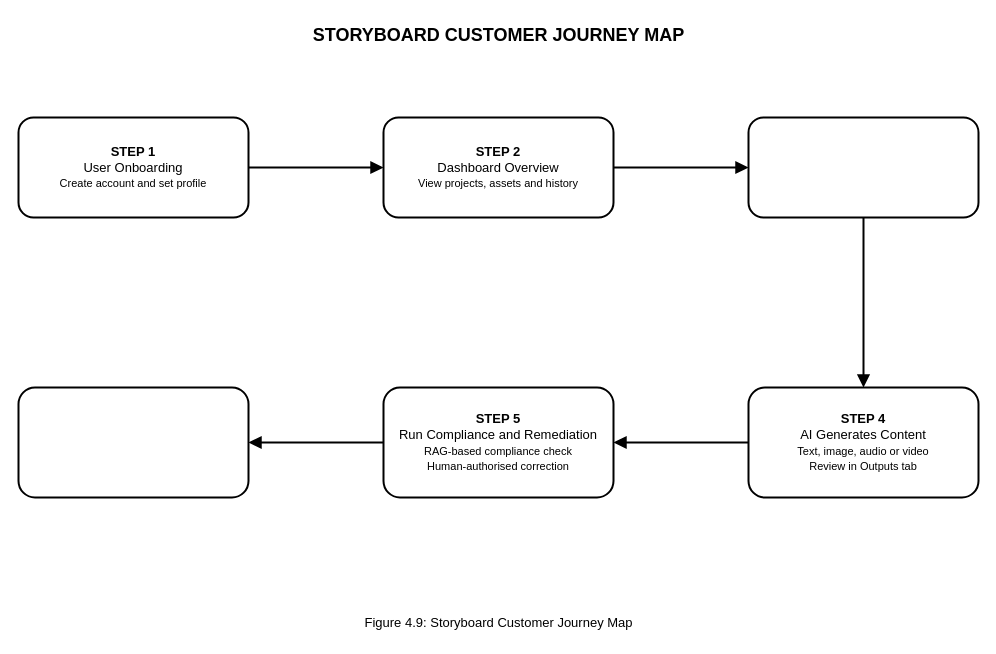
Image size: 996x654. Some labels were removed from this diagram. The shapes that lost their labels are listed below. From the top down, each one's centre as x and y in pixels, then its label:
At [863,167]: "STEP 3 Enter Generation Canvas Submit brief, platform and references".
At [133,442]: "STEP 6 Distribute Advertisement Publish to TikTok and Instagram through Zernio".
